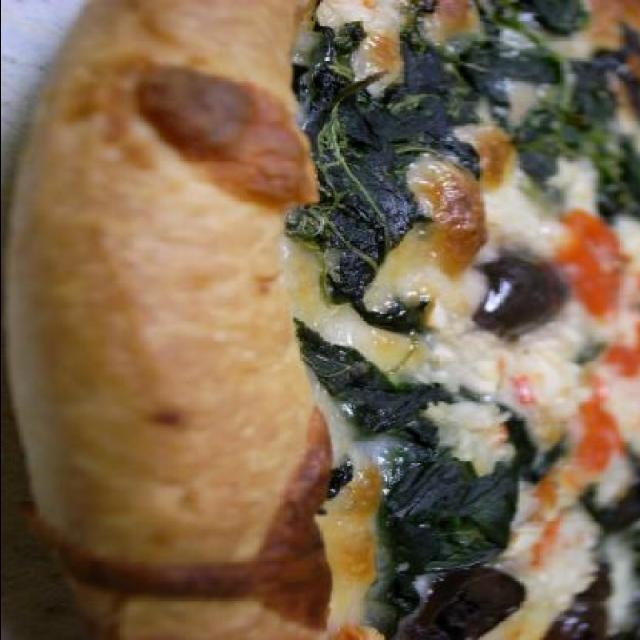Pizza: (1, 0, 599, 640)
